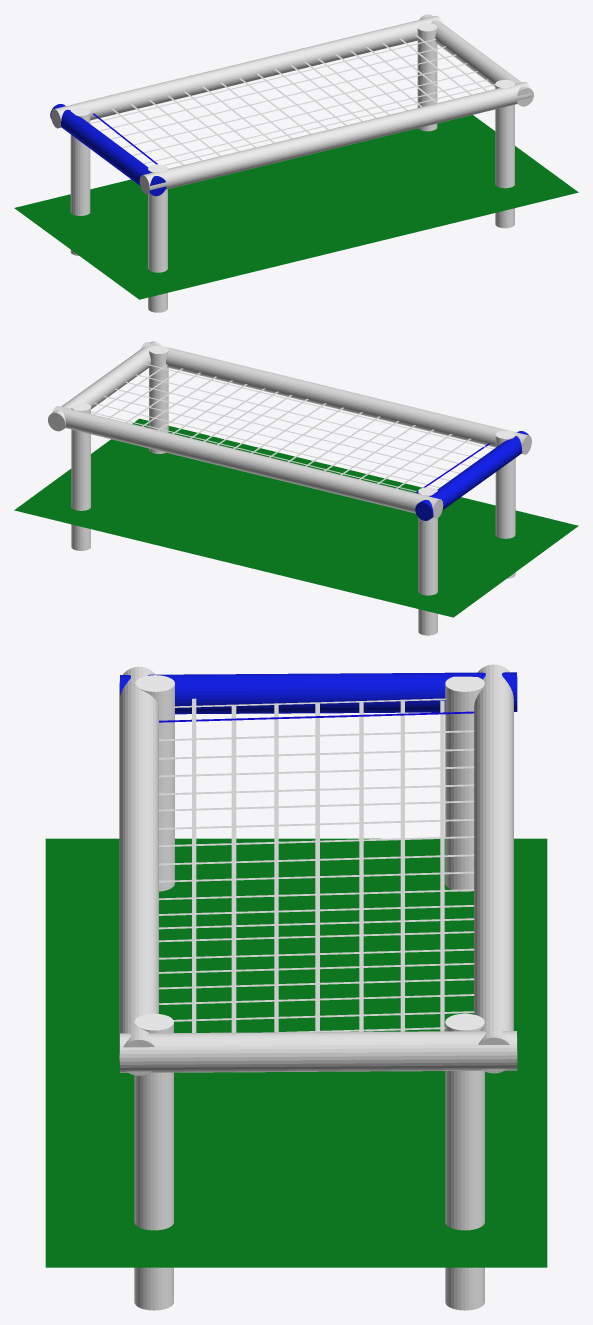
Rendered from prycz_zwykla.glb.
3 renders of one model, top to bottom at view 1: azimuth 30°, elevation 25°; view 2: azimuth 150°, elevation 25°; view 3: azimuth 270°, elevation 25°, orthographic. The views are drawn at different scales.
Visible parts, largest first — view 1: Plane, Cylinder.002, Cylinder, Cylinder.004, Cylinder.007, Cylinder.005, Cylinder.003, Cylinder.001, Cylinder.006, Plane.004, Plane.031, Plane.030 (+4 smaller); view 2: Plane, Cylinder, Cylinder.002, Cylinder.004, Cylinder.006, Cylinder.001, Cylinder.003, Cylinder.005, Cylinder.007, Plane.004, Plane.033, Plane.030 (+4 smaller); view 3: Plane, Cylinder.003, Cylinder, Cylinder.002, Cylinder.004, Cylinder.006, Cylinder.007, Cylinder.001, Cylinder.005, Plane.033, Plane.004, Plane.030 (+4 smaller).
Part boxes in pixels (left/top/right/bottom): Plane: left=14, top=115, right=578, bottom=299; Cylinder.002: left=139, top=82, right=531, bottom=194; Cylinder: left=51, top=15, right=441, bottom=128; Cylinder.004: left=50, top=104, right=166, bottom=196; Cylinder.007: left=495, top=80, right=514, bottom=228; Cylinder.005: left=148, top=164, right=167, bottom=312; Cylinder.003: left=419, top=14, right=533, bottom=106; Cylinder.001: left=70, top=107, right=90, bottom=255; Cylinder.006: left=417, top=23, right=437, bottom=131; Plane.004: left=164, top=84, right=495, bottom=165; Plane.031: left=122, top=63, right=467, bottom=147; Plane.030: left=110, top=54, right=456, bottom=139; Plane: left=14, top=418, right=578, bottom=617; Cylinder: left=52, top=406, right=443, bottom=518; Cylinder.002: left=141, top=342, right=531, bottom=454; Cylinder.004: left=415, top=431, right=528, bottom=520; Cylinder.006: left=71, top=402, right=90, bottom=550; Cylinder.001: left=418, top=487, right=437, bottom=635; Cylinder.003: left=48, top=341, right=161, bottom=431; Cylinder.005: left=495, top=430, right=515, bottom=578; Cylinder.007: left=149, top=345, right=168, bottom=453; Plane.004: left=145, top=364, right=493, bottom=449; Plane.033: left=135, top=374, right=480, bottom=458; Plane.030: left=104, top=396, right=449, bottom=480; Plane: left=45, top=838, right=547, bottom=1267; Cylinder.003: left=120, top=1031, right=517, bottom=1072; Cylinder: left=474, top=664, right=513, bottom=1073; Cylinder.002: left=119, top=666, right=158, bottom=1075; Cylinder.004: left=120, top=672, right=517, bottom=714; Cylinder.006: left=445, top=1013, right=484, bottom=1310; Cylinder.007: left=134, top=1013, right=173, bottom=1310; Cylinder.001: left=445, top=676, right=484, bottom=891; Cylinder.005: left=135, top=675, right=174, bottom=891; Plane.033: left=231, top=706, right=236, bottom=1032; Plane.004: left=192, top=698, right=196, bottom=1032; Plane.030: left=359, top=702, right=363, bottom=1031.
Bounding box in the file's own units: 460 × 141 × 227.
